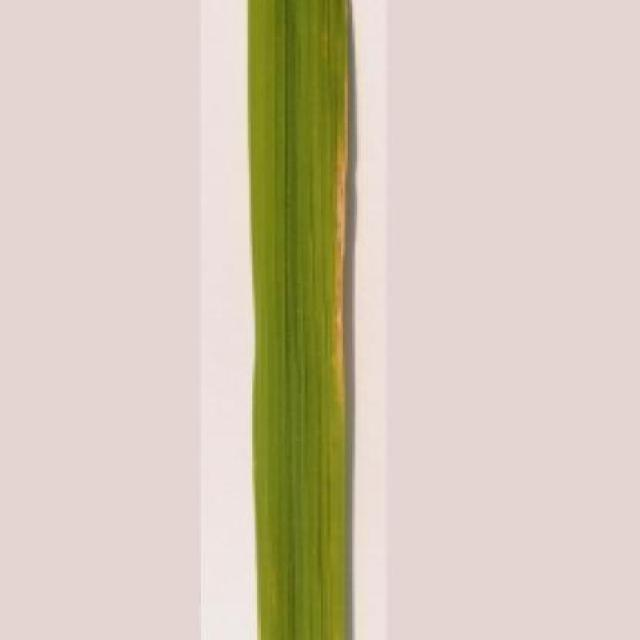Brown_Spot: (243, 0, 355, 640)
